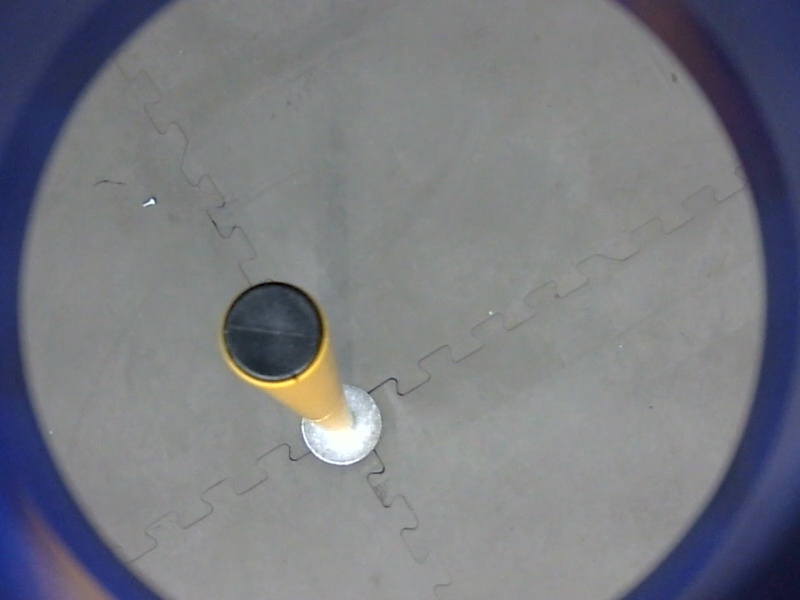tip: (211, 275, 335, 397)
